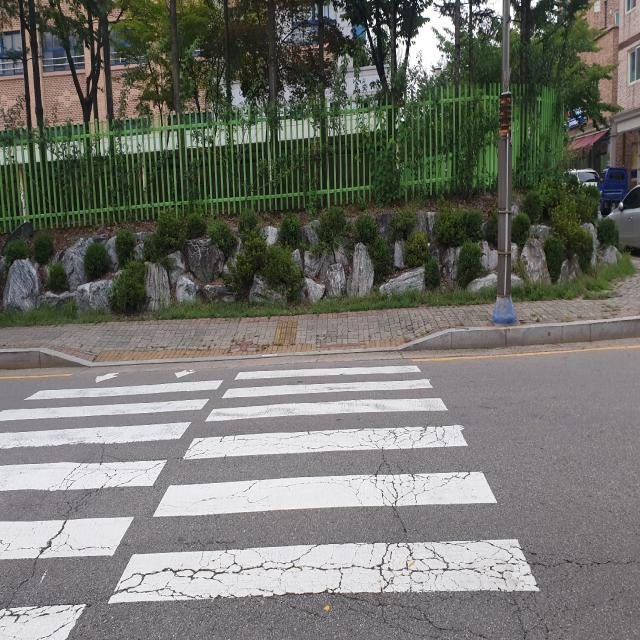횡단보도: (0, 365, 540, 639)
